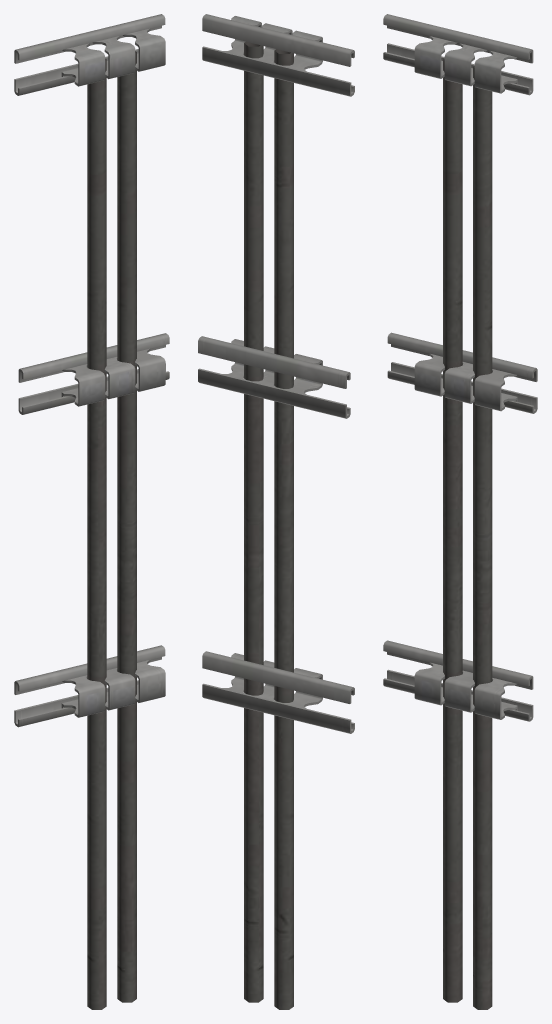
Rendered from cable_double_alt_long.gltf.
3 views of the same model, side by side, from view 1: azimuth 30°, elevation 25°; view 2: azimuth 150°, elevation 25°; view 3: azimuth 330°, elevation 25° (orthographic).
Parts seen in each view (by area): view 1: cable_double_alt_long; view 2: cable_double_alt_long; view 3: cable_double_alt_long.
Part boxes in pixels (x1=…): cable_double_alt_long: x1=14, y1=14, x2=169, y2=1009; cable_double_alt_long: x1=198, y1=14, x2=354, y2=1009; cable_double_alt_long: x1=383, y1=14, x2=537, y2=1009.
Bounding box in the file's own units: 0.0997 × 0.6141 × 0.0221.
1 material, 1 textured.
